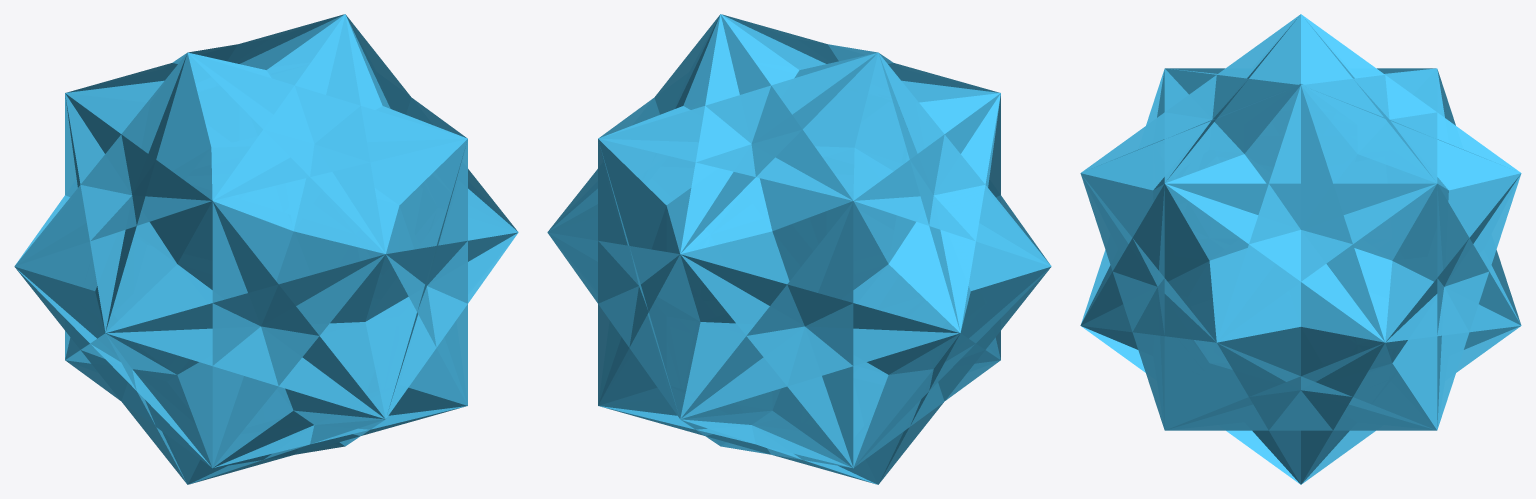
Rendered from Rhombicosacron.obj.
The picture shows the model from 3 angles, left to right: view 1: azimuth 30°, elevation 25°; view 2: azimuth 150°, elevation 25°; view 3: azimuth 270°, elevation 25°; orthographic projection. The views are drawn at different scales.
Bounding box in the file's own units: 3.24 × 3.24 × 3.24.
